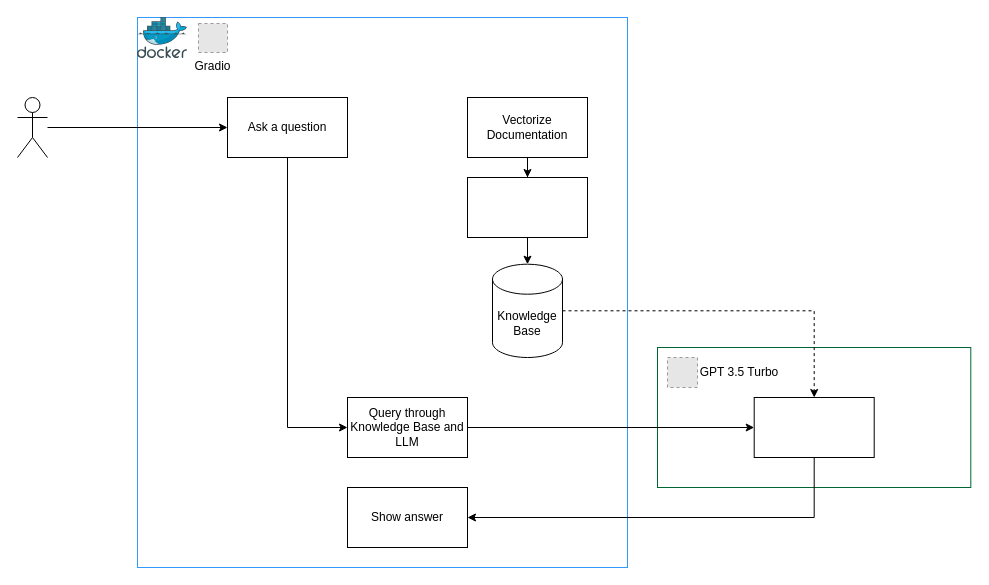
Image size: 989x585. Some labels were removed from this diagram. Grey dashed boxes stand in for pictures. The shapes that lost their labels are listed below. From the top down, each one's box as (x1, y1, x2, y2) in pixels, then its label:
(16, 96, 48, 158): User
(466, 176, 588, 238): Store Embeddings
(753, 396, 874, 458): LLM receives prompts and generates output
